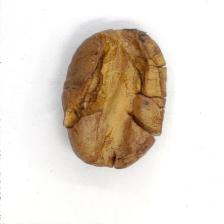NG: (64, 29, 168, 169)
